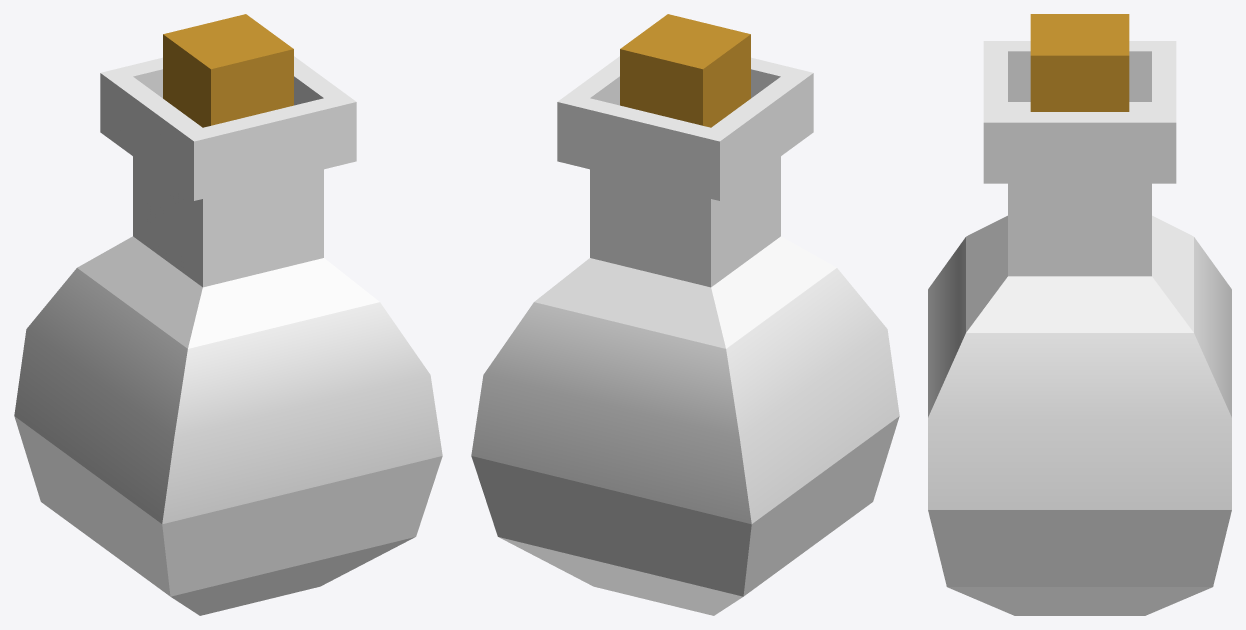
Rendered from healthpot.glb.
3 renders of one model, left to right at view 1: azimuth 30°, elevation 25°; view 2: azimuth 150°, elevation 25°; view 3: azimuth 270°, elevation 25°, orthographic. The views are drawn at different scales.
Visible parts, largest first — view 1: bottle, cork; view 2: bottle, cork; view 3: bottle, cork.
Part boxes in pixels (x1,y1,x2,y2): bottle: (14,56,442,615); cork: (163,14,293,127); bottle: (471,56,899,615); cork: (620,14,750,127); bottle: (928,41,1231,615); cork: (1030,14,1129,111).
Bounding box in the file's own units: 2.31 × 4.39 × 2.11.
